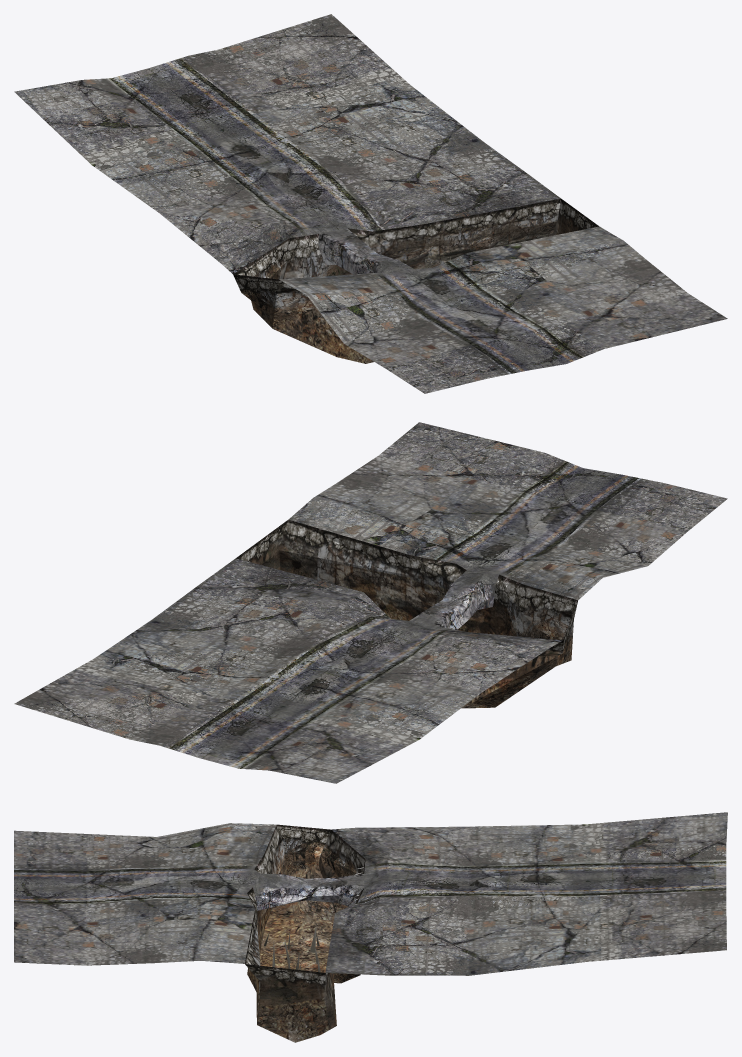
File: terrain.obj
3 views of the same model, one above another, from view 1: azimuth 30°, elevation 25°; view 2: azimuth 150°, elevation 25°; view 3: azimuth 270°, elevation 25° (orthographic). The views are drawn at different scales.
Parts seen in each view (by area): view 1: Terrain; view 2: Terrain; view 3: Terrain.
Part boxes in pixels (left/top/right/bottom): Terrain: left=14, top=14, right=727, bottom=393; Terrain: left=14, top=422, right=727, bottom=783; Terrain: left=14, top=812, right=727, bottom=1042.
Size of the model in its own units: 248 by 80.87 by 523.
